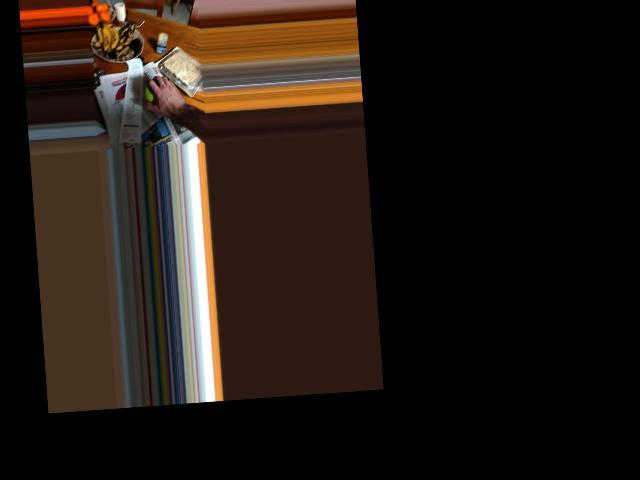apple: (143, 78, 170, 107)
